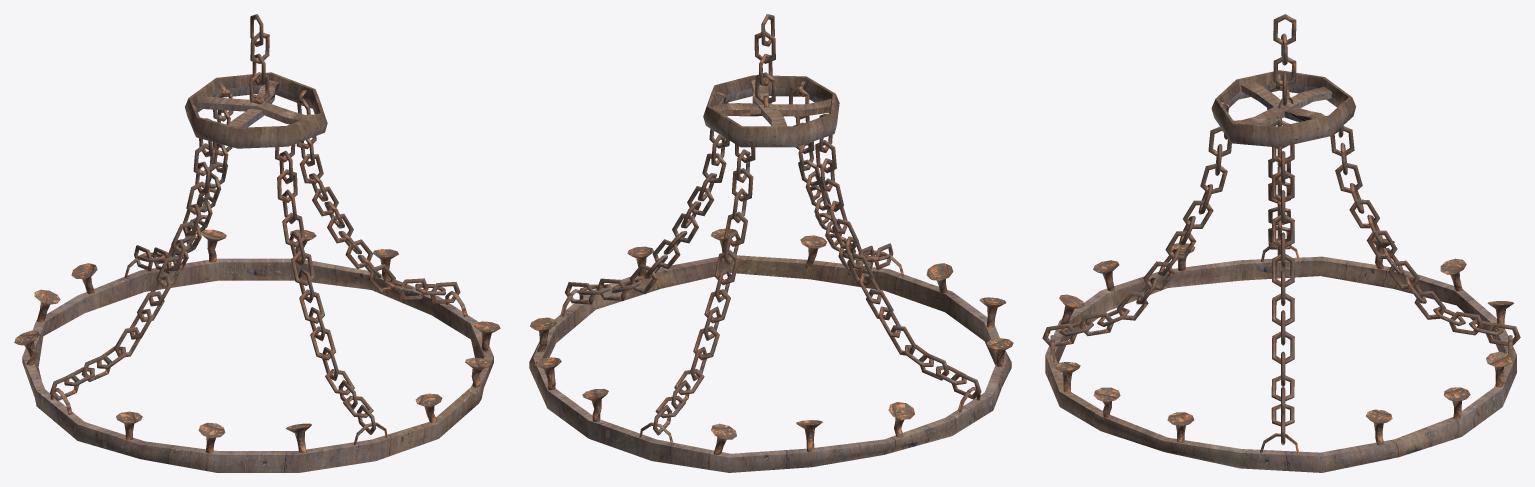
The model's file is ChandalierTest.FBX.
3 views of the same model, side by side, from view 1: azimuth 30°, elevation 25°; view 2: azimuth 150°, elevation 25°; view 3: azimuth 270°, elevation 25° (orthographic).
Parts seen in each view (by area): view 1: Tube006, Chains, Box143, MetalParts, AttachmentChain; view 2: Tube006, Chains, Box143, MetalParts, AttachmentChain; view 3: Tube006, Chains, Box143, MetalParts, AttachmentChain.
Part boxes in pixels (x1,y1,x2,y2): Tube006: (22,258,493,472); Chains: (50,89,460,434); Box143: (185,72,327,148); MetalParts: (14,229,500,453); AttachmentChain: (249,14,269,104); Tube006: (529,255,1011,472); Chains: (565,86,981,435); Box143: (703,75,839,147); MetalParts: (530,228,1013,454); AttachmentChain: (754,14,775,103); Tube006: (1045,256,1516,472); Chains: (1042,83,1520,444); Box143: (1211,70,1355,147); MetalParts: (1050,237,1513,454); AttachmentChain: (1273,14,1296,106).
Size of the model in its own units: 101 by 84.51 by 101.
